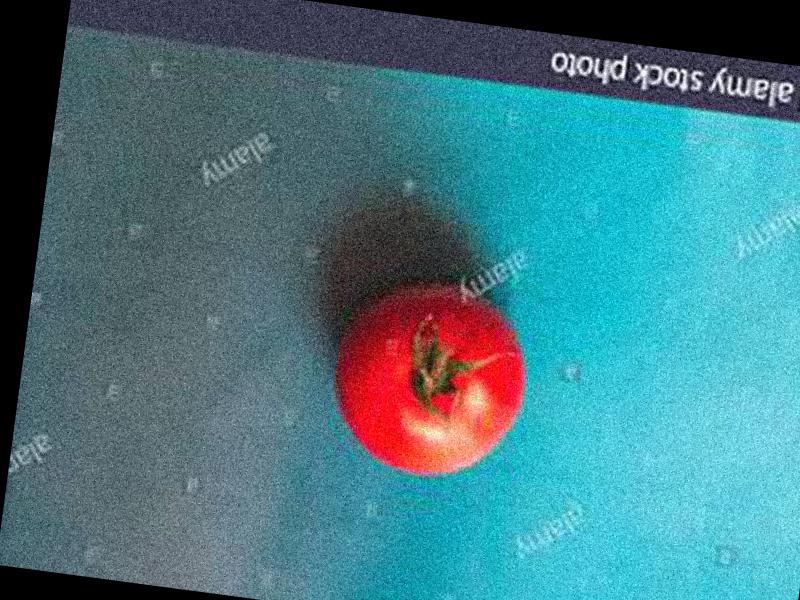Tomato: (326, 271, 536, 487)
